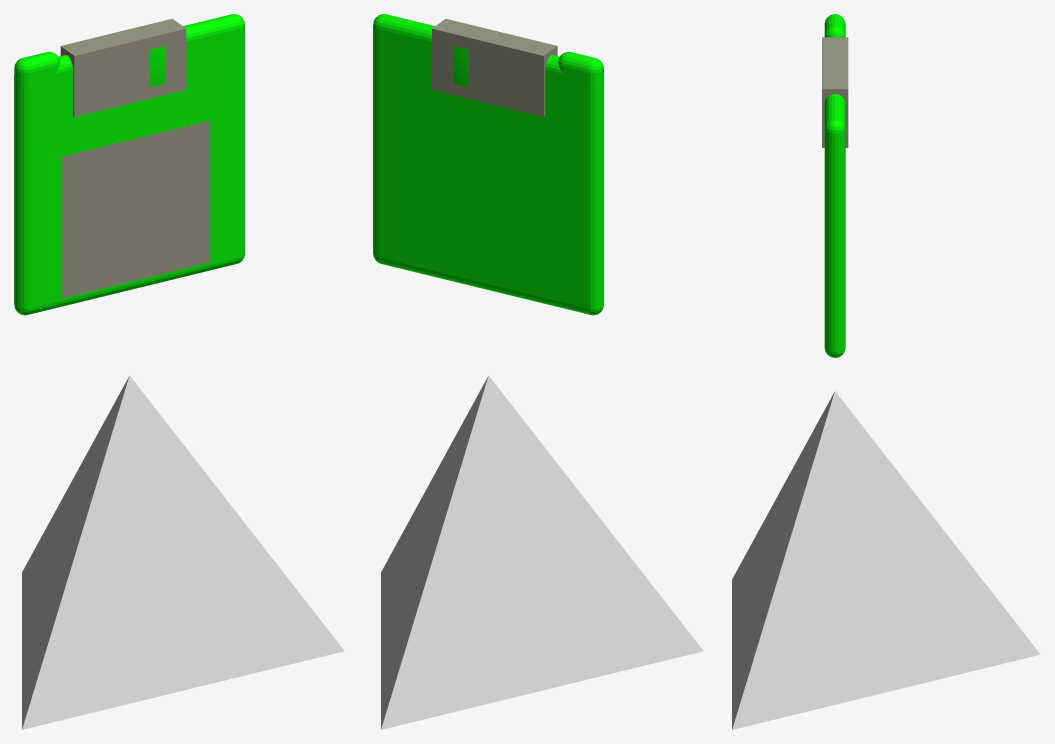
The model's file is Floppy Disc[Green].fbx.
3 views of the same model, side by side, from view 1: azimuth 30°, elevation 25°; view 2: azimuth 150°, elevation 25°; view 3: azimuth 270°, elevation 25° (orthographic). The views are drawn at different scales.
Visible parts, largest first — view 1: Platonic, Cube_1, Plane, Cube, Cube_2, Cube_3; view 2: Platonic, Cube_1, Cube, Cube_2, Cube_3; view 3: Platonic, Cube_1, Cube.
Boxes of the visible parts, <box> form: Platonic: <box>22,375,344,729</box>; Cube_1: <box>14,14,244,315</box>; Plane: <box>61,120,209,298</box>; Cube: <box>60,18,186,116</box>; Cube_2: <box>14,51,59,300</box>; Cube_3: <box>149,46,165,87</box>; Platonic: <box>381,375,703,729</box>; Cube_1: <box>373,14,603,315</box>; Cube: <box>432,18,557,116</box>; Cube_2: <box>558,51,603,300</box>; Cube_3: <box>453,46,468,87</box>; Platonic: <box>732,391,1040,729</box>; Cube_1: <box>824,94,845,357</box>; Cube: <box>822,37,848,147</box>.
Size of the model in its own units: 163 by 299 by 141.
